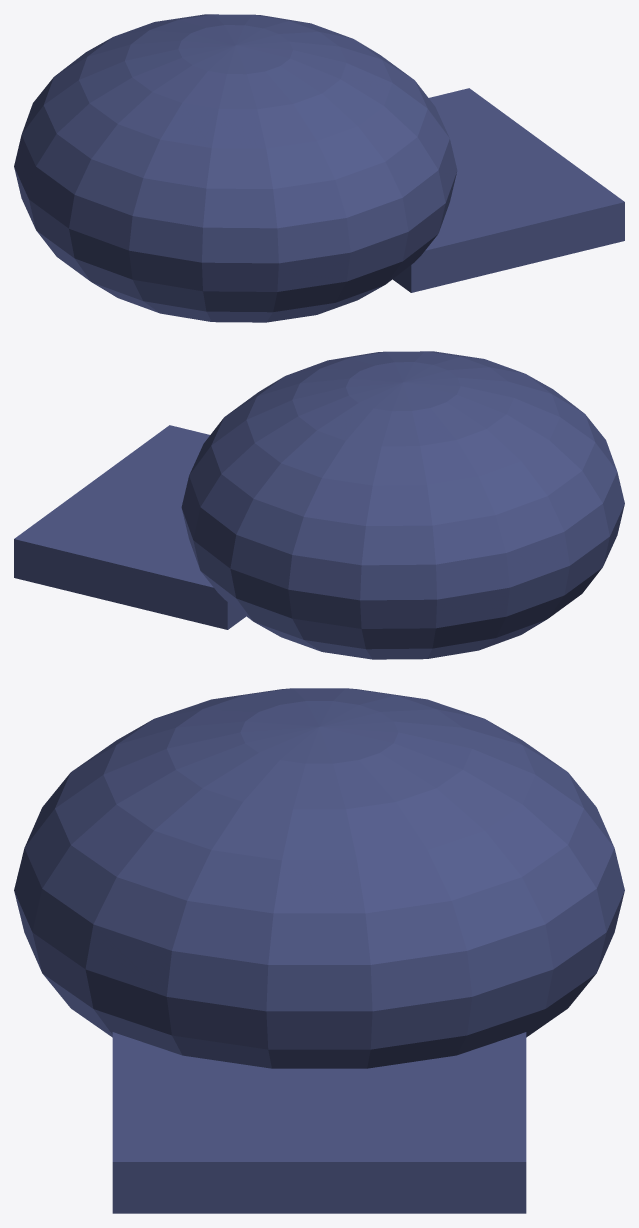
Rendered from SM_Hat_Cap.fbx.
3 views of the same model, one above another, from view 1: azimuth 30°, elevation 25°; view 2: azimuth 150°, elevation 25°; view 3: azimuth 270°, elevation 25° (orthographic). The views are drawn at different scales.
Visible parts, largest first — view 1: SM_Hat_Cap; view 2: SM_Hat_Cap; view 3: SM_Hat_Cap.
Boxes of the visible parts, bbox=[...] form: SM_Hat_Cap: bbox=[14, 14, 624, 322]; SM_Hat_Cap: bbox=[14, 351, 624, 659]; SM_Hat_Cap: bbox=[14, 688, 624, 1213].
Size of the model in its own units: 26.8 by 21.42 by 12.65.
